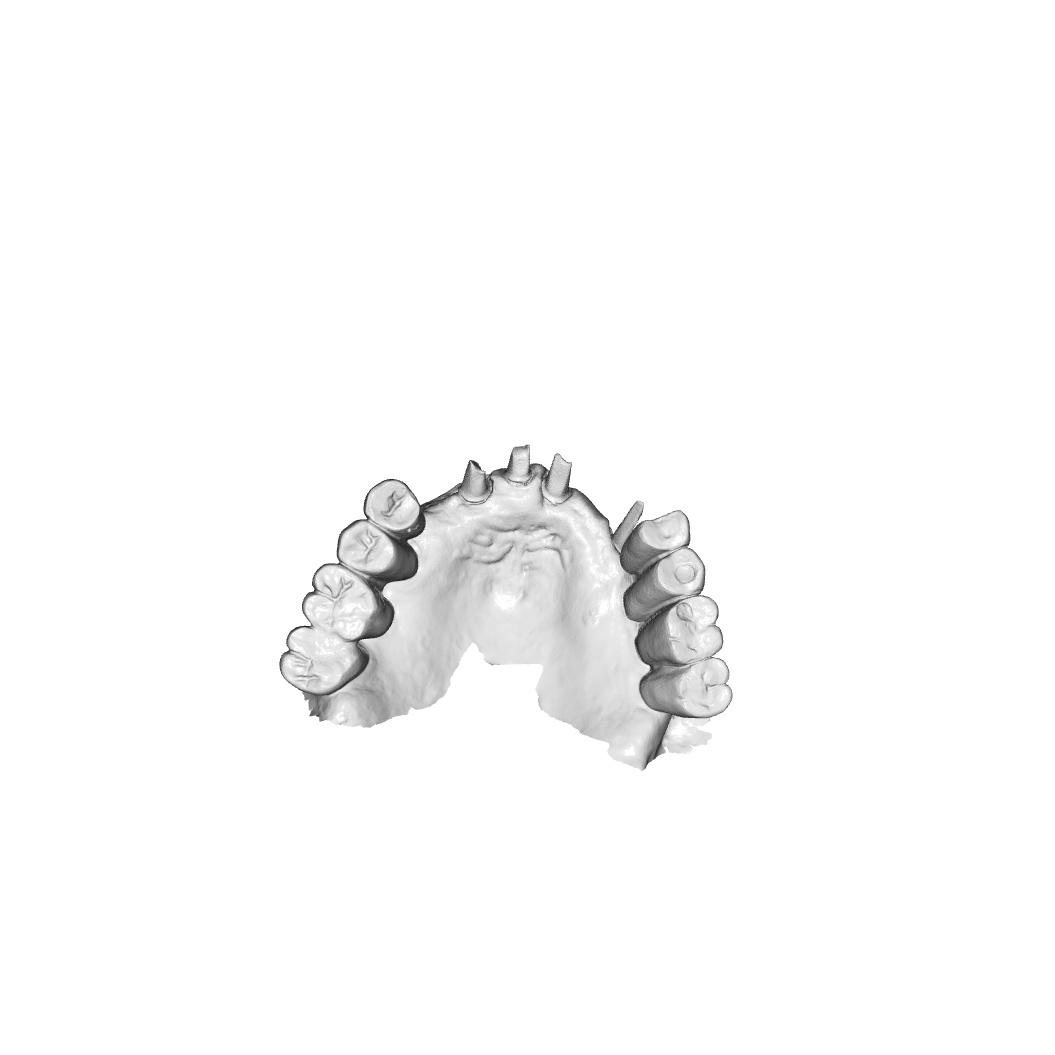crown: (609, 498, 649, 554), (541, 451, 575, 508), (457, 459, 491, 506), (503, 443, 534, 487)
molar: (301, 561, 396, 643), (278, 624, 370, 697), (635, 593, 724, 668), (638, 656, 733, 720)
premolar: (623, 547, 706, 623), (336, 518, 420, 584), (619, 509, 691, 575), (362, 478, 427, 539)
